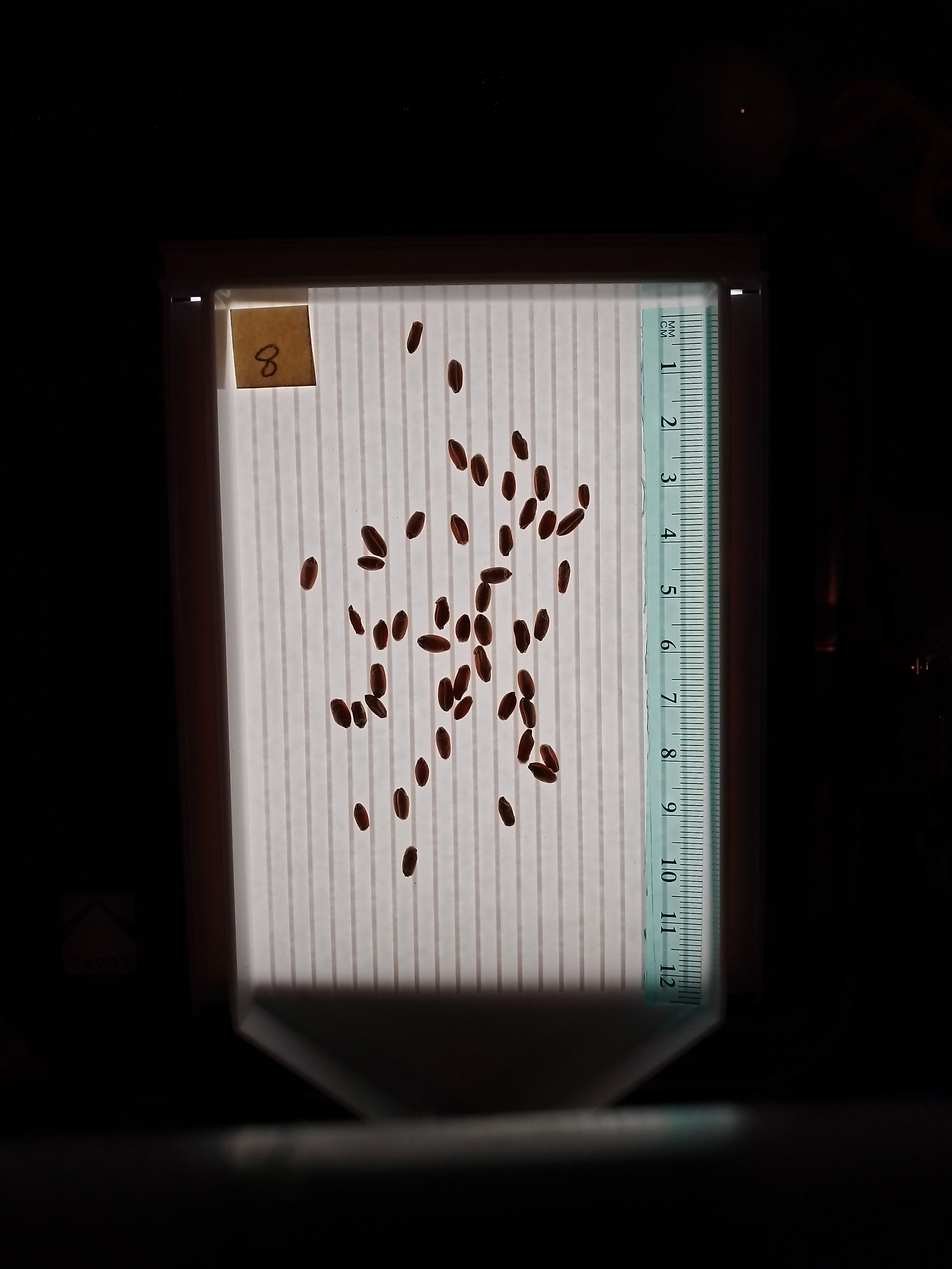seed mask: (361, 526, 387, 559), (557, 509, 584, 536), (529, 762, 557, 783), (448, 440, 467, 470), (301, 557, 318, 590), (514, 620, 531, 653), (331, 700, 351, 728), (540, 745, 559, 774), (370, 664, 386, 698), (534, 466, 550, 500), (418, 635, 448, 653), (475, 649, 491, 682), (454, 666, 470, 699), (450, 516, 468, 545), (481, 566, 510, 584), (406, 512, 425, 539), (447, 360, 463, 392), (471, 456, 488, 486), (518, 732, 534, 763), (407, 322, 423, 353), (520, 498, 536, 529), (534, 609, 550, 640), (439, 678, 454, 711), (498, 693, 516, 720), (539, 511, 556, 539), (434, 597, 449, 628), (475, 616, 491, 645), (512, 431, 528, 460), (366, 695, 386, 718), (402, 847, 417, 877), (394, 789, 409, 819), (436, 728, 451, 758), (518, 671, 534, 699), (499, 798, 514, 827), (476, 583, 491, 612), (392, 612, 408, 639), (520, 700, 536, 727), (373, 621, 388, 649), (415, 758, 430, 786), (499, 526, 513, 556), (558, 562, 571, 594), (354, 804, 369, 831), (358, 556, 385, 571), (502, 472, 516, 500), (350, 607, 364, 634), (455, 697, 472, 719), (456, 616, 470, 641), (352, 702, 366, 727), (578, 484, 590, 509)
